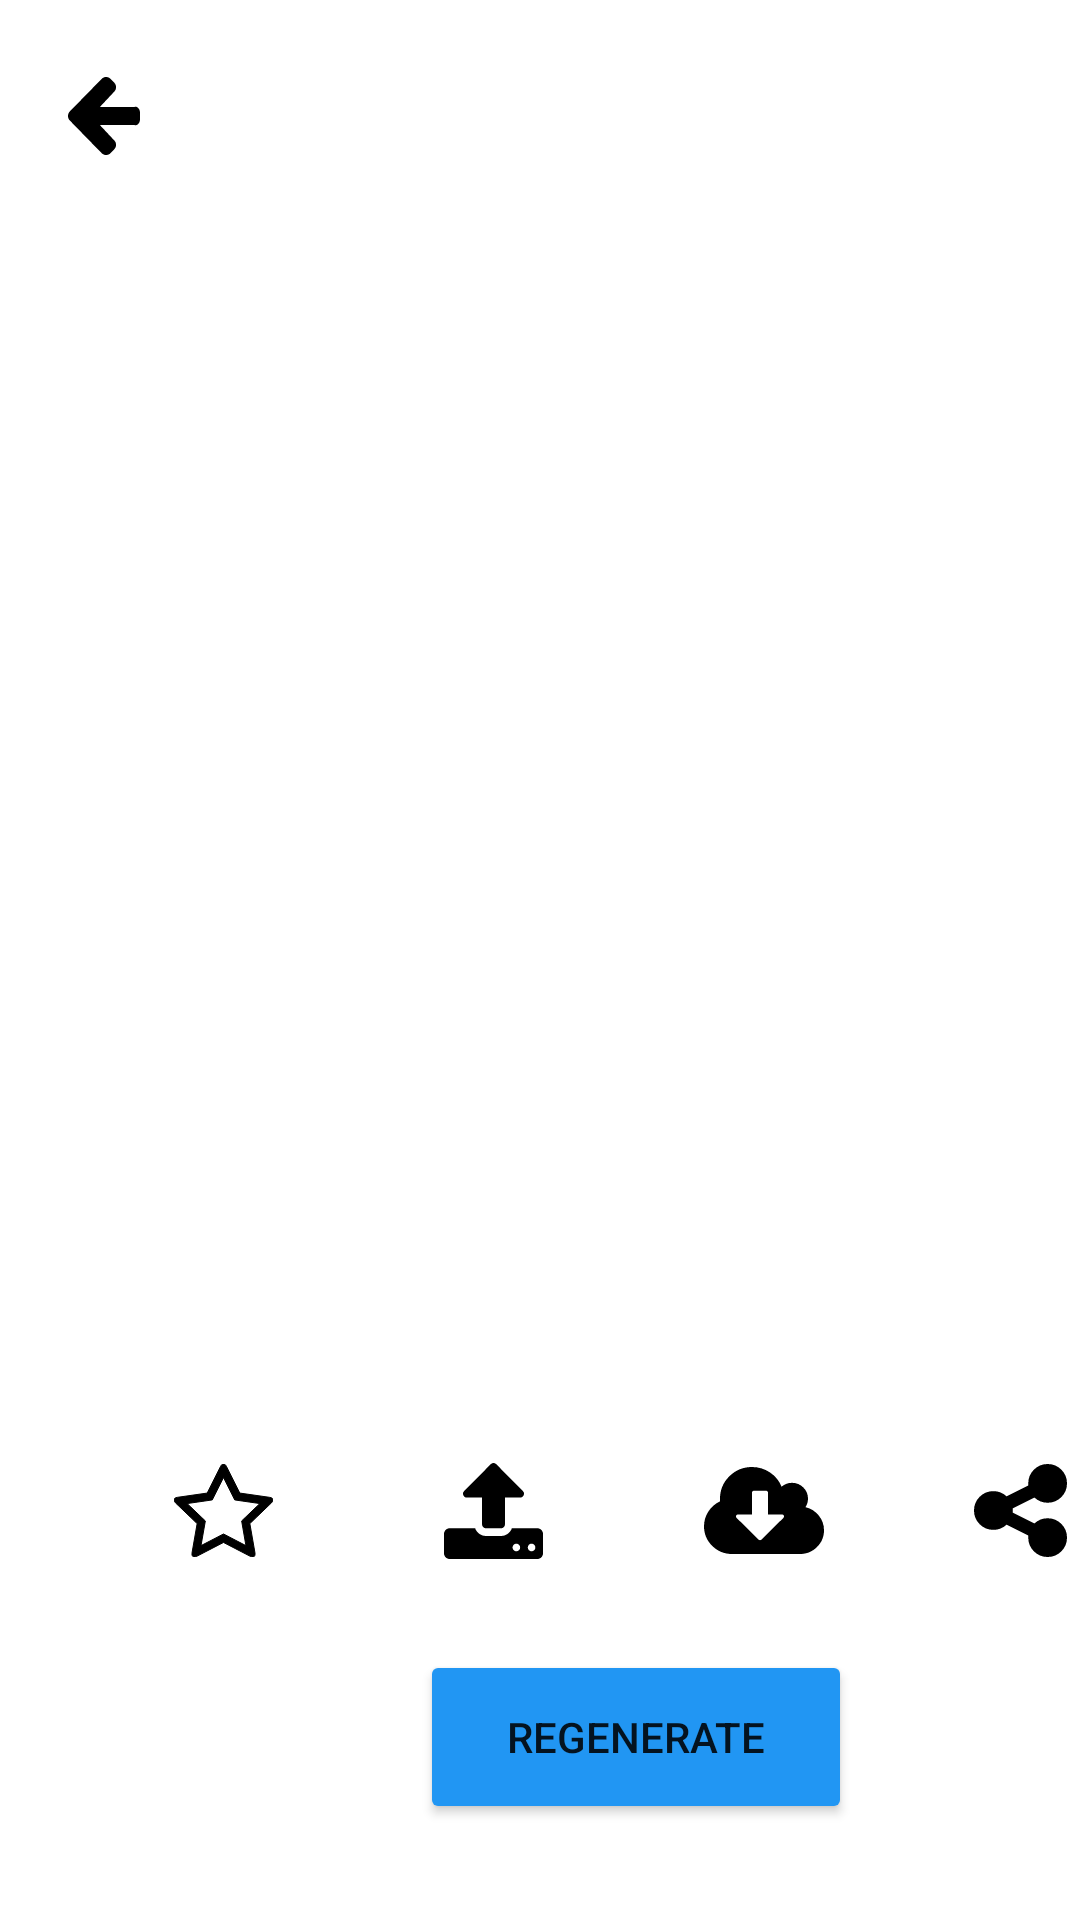

Icon bounding boxes for this 1080×1920 phone screenshot, format box(x1, y1, x2, y2):
back arrow: box(68, 77, 140, 155)
download: box(704, 1467, 824, 1554)
share: box(974, 1464, 1067, 1557)
star: box(174, 1464, 273, 1557)
upload: box(444, 1463, 543, 1559)
